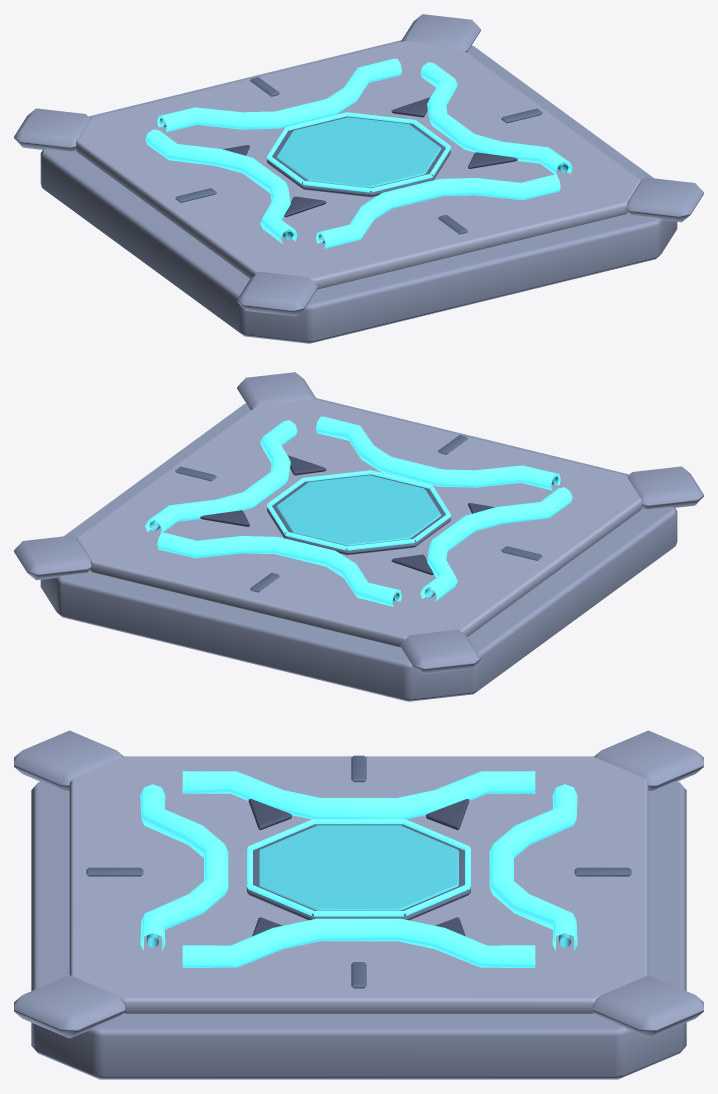
File: Teleporter.fbx
3 renders of one model, top to bottom at view 1: azimuth 30°, elevation 25°; view 2: azimuth 150°, elevation 25°; view 3: azimuth 270°, elevation 25°, orthographic. The views are drawn at different scales.
Visible parts, largest first — view 1: Raised upper deck, Main octagonal platform chassis, Central cyan octagonal display, Blue glow channel 1, Blue glow channel 3, Blue glow channel 2, Blue glow channel 4, Corner armour 01, Corner armour 02, Corner armour 04, Corner armour 03, Central dark octagonal bezel; view 2: Raised upper deck, Main octagonal platform chassis, Central cyan octagonal display, Blue glow channel 3, Blue glow channel 1, Blue glow channel 2, Blue glow channel 4, Corner armour 04, Corner armour 03, Corner armour 01, Corner armour 02, Central dark octagonal bezel; view 3: Raised upper deck, Main octagonal platform chassis, Central cyan octagonal display, Blue glow channel 4, Blue glow channel 2, Blue glow channel 3, Blue glow channel 1, Corner armour 02, Corner armour 03, Corner armour 01, Corner armour 04, Central dark octagonal bezel (+4 smaller).
Part boxes in pixels (x1=…): Raised upper deck: x1=76, y1=41, x2=641, y2=289; Main octagonal platform chassis: x1=40, y1=40, x2=677, y2=343; Central cyan octagonal display: x1=276, y1=117, x2=441, y2=188; Blue glow channel 1: x1=157, y1=58, x2=401, y2=132; Blue glow channel 3: x1=316, y1=174, x2=560, y2=248; Blue glow channel 2: x1=145, y1=129, x2=297, y2=243; Blue glow channel 4: x1=420, y1=62, x2=572, y2=176; Corner armour 01: x1=237, y1=271, x2=317, y2=316; Corner armour 02: x1=626, y1=177, x2=703, y2=222; Corner armour 04: x1=14, y1=108, x2=90, y2=151; Corner armour 03: x1=401, y1=14, x2=480, y2=52; Central dark octagonal bezel: x1=267, y1=116, x2=450, y2=197; Raised upper deck: x1=76, y1=399, x2=641, y2=647; Main octagonal platform chassis: x1=40, y1=398, x2=677, y2=701; Central cyan octagonal display: x1=276, y1=475, x2=441, y2=546; Blue glow channel 3: x1=316, y1=416, x2=560, y2=490; Blue glow channel 1: x1=157, y1=532, x2=401, y2=606; Blue glow channel 2: x1=420, y1=487, x2=572, y2=601; Blue glow channel 4: x1=145, y1=420, x2=297, y2=534; Corner armour 04: x1=400, y1=629, x2=480, y2=674; Corner armour 03: x1=14, y1=535, x2=91, y2=580; Corner armour 01: x1=627, y1=466, x2=703, y2=509; Corner armour 02: x1=237, y1=372, x2=316, y2=410; Central dark octagonal bezel: x1=267, y1=474, x2=450, y2=555; Raised upper deck: x1=69, y1=756, x2=648, y2=1013; Main octagonal platform chassis: x1=31, y1=756, x2=686, y2=1079; Central cyan octagonal display: x1=259, y1=825, x2=458, y2=910; Blue glow channel 4: x1=182, y1=918, x2=535, y2=967; Blue glow channel 2: x1=182, y1=771, x2=535, y2=819; Blue glow channel 3: x1=140, y1=784, x2=228, y2=950; Blue glow channel 1: x1=489, y1=784, x2=577, y2=950; Corner armour 02: x1=14, y1=975, x2=125, y2=1038; Corner armour 03: x1=592, y1=975, x2=703, y2=1038; Corner armour 01: x1=14, y1=730, x2=123, y2=790; Corner armour 04: x1=594, y1=730, x2=703, y2=790; Central dark octagonal bezel: x1=247, y1=824, x2=470, y2=920.
Size of the model in its own units: 579 by 79 by 579.
